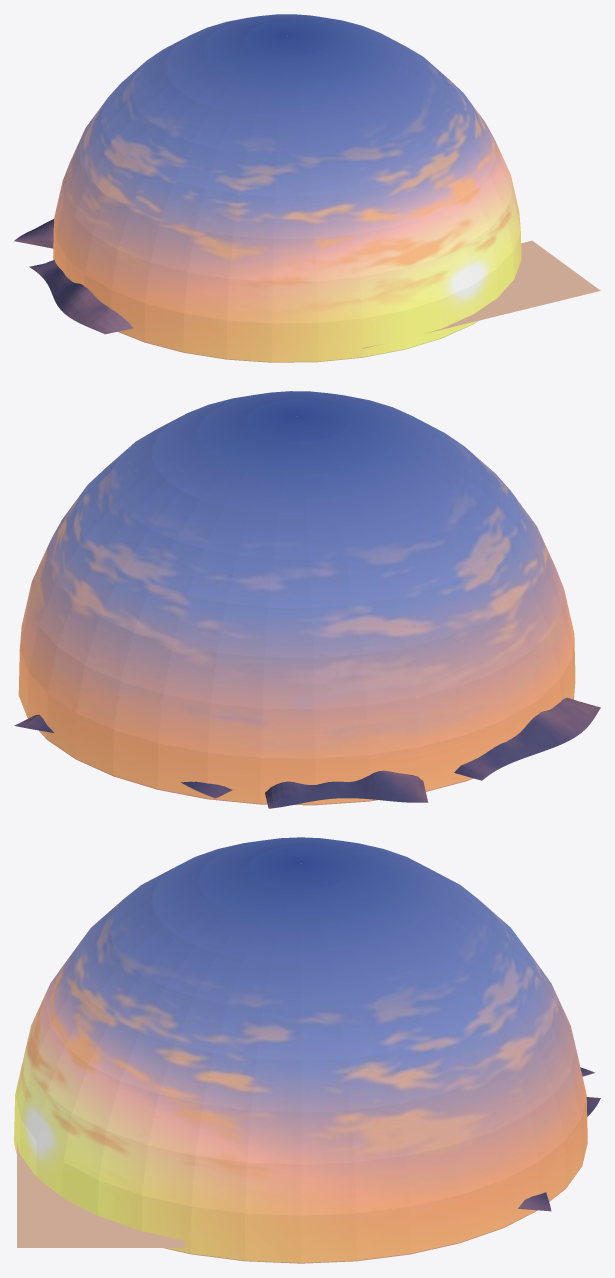
Rendered from lugar-atenas-ciudad.glb.
3 views of the same model, one above another, from view 1: azimuth 30°, elevation 25°; view 2: azimuth 150°, elevation 25°; view 3: azimuth 270°, elevation 25° (orthographic). The views are drawn at different scales.
Parts seen in each view (by area): view 1: planoC, vertT; view 2: planoC, vertT; view 3: planoC, vertT.
Part boxes in pixels (x1=…): planoC: x1=53, y1=14, x2=600, y2=362; vertT: x1=14, y1=219, x2=133, y2=334; planoC: x1=18, y1=391, x2=575, y2=805; vertT: x1=14, y1=697, x2=600, y2=808; planoC: x1=14, y1=837, x2=587, y2=1263; vertT: x1=518, y1=1067, x2=600, y2=1211.
Size of the model in its own units: 6356 by 3209 by 6123.
Materials: 21 (17 with a texture image).
